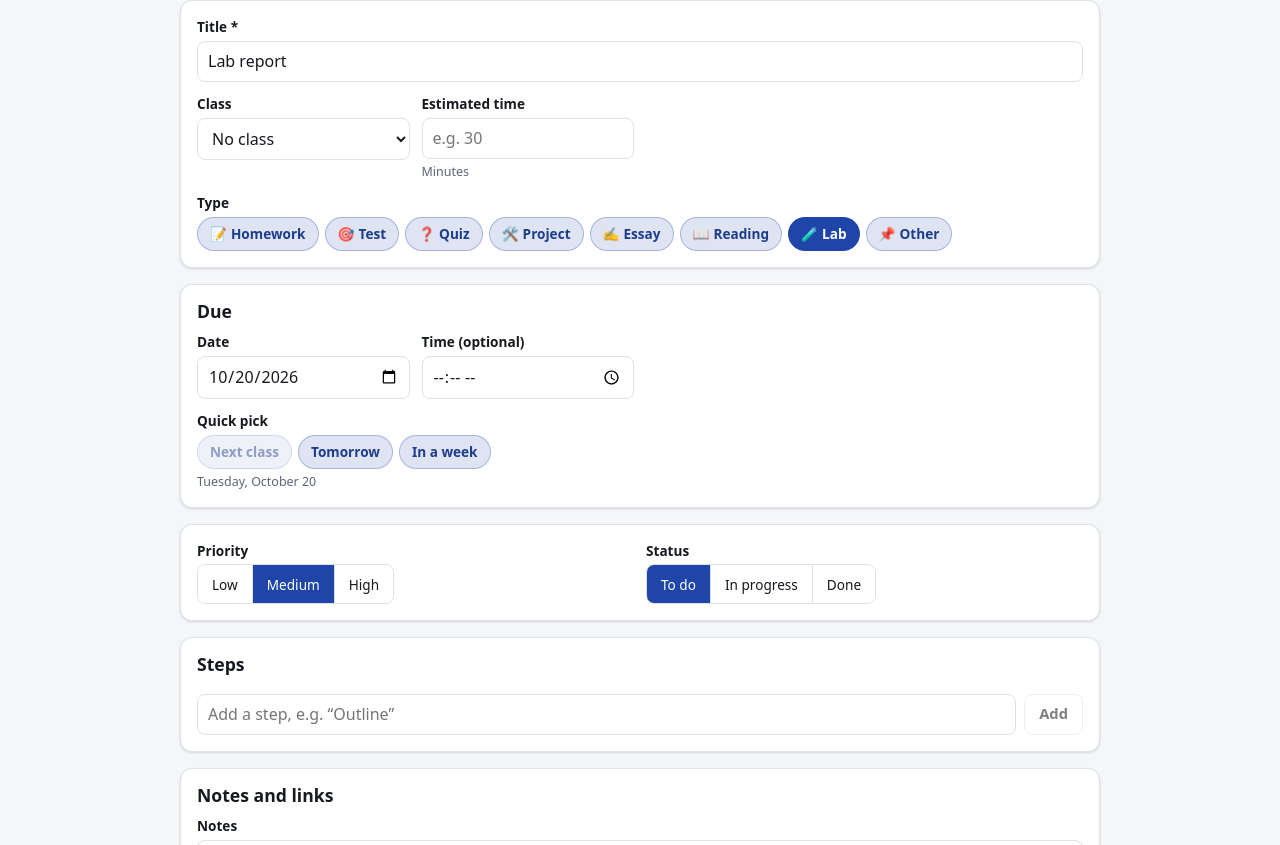
Test: HomeworkEditPage: unsaved changes › asks on Cancel when something changed
This screenshot has width=1280, height=845.
Replace the text in the field labelled "Title *" with "Lab report v2" at (640, 62), box 197,41 -> 1083,82
(page scrolled)
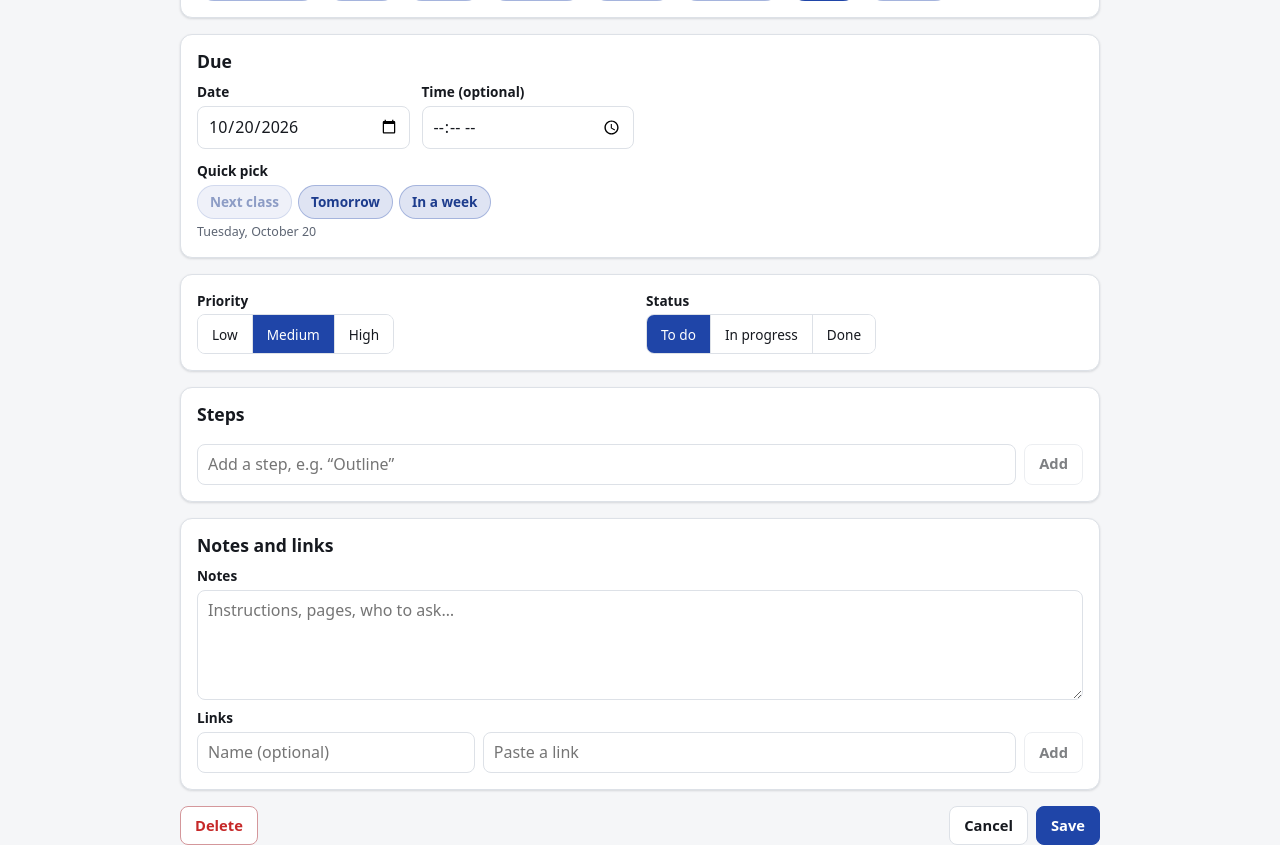
Click the button "Cancel".
click(989, 826)  # box 949,806 -> 1028,844
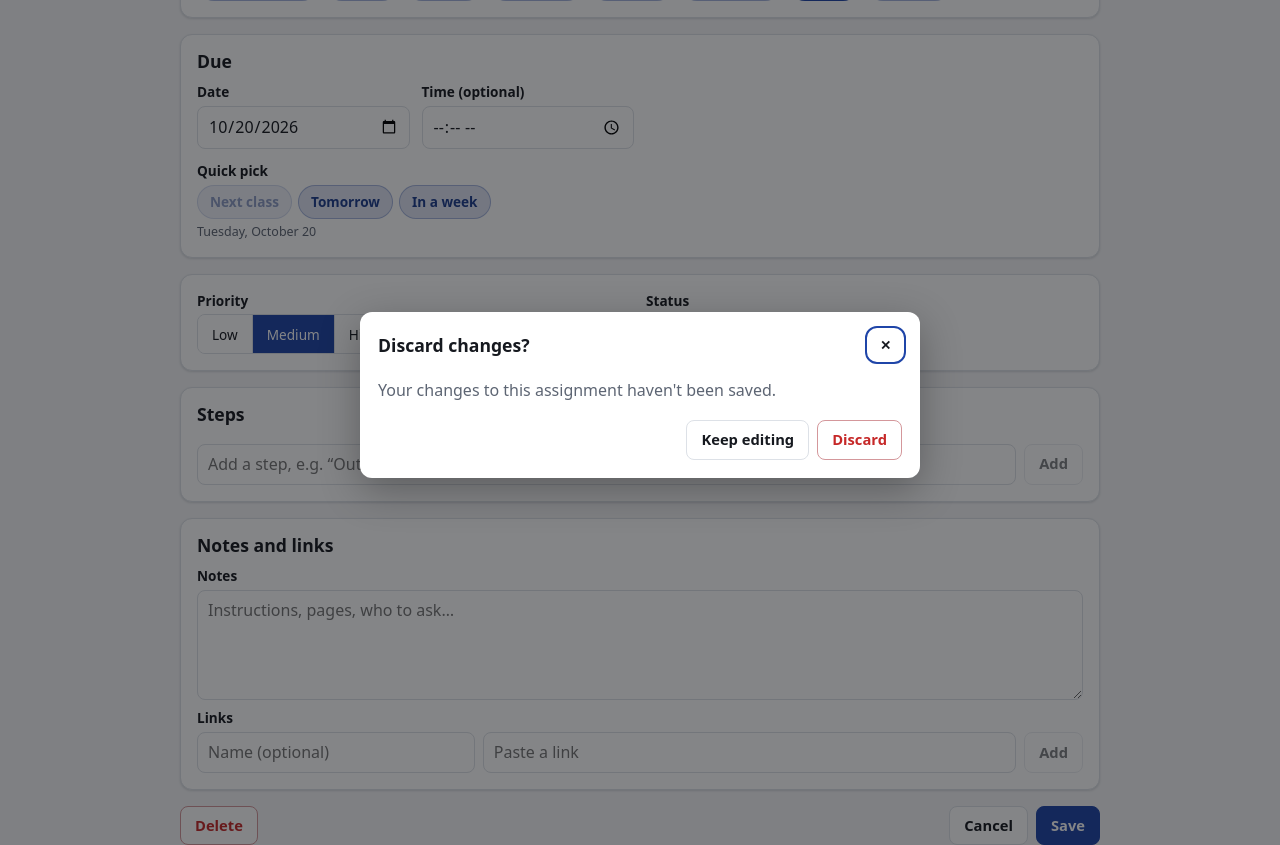
Now the heading "Discard changes?" is shown, box 378,335 -> 530,356
